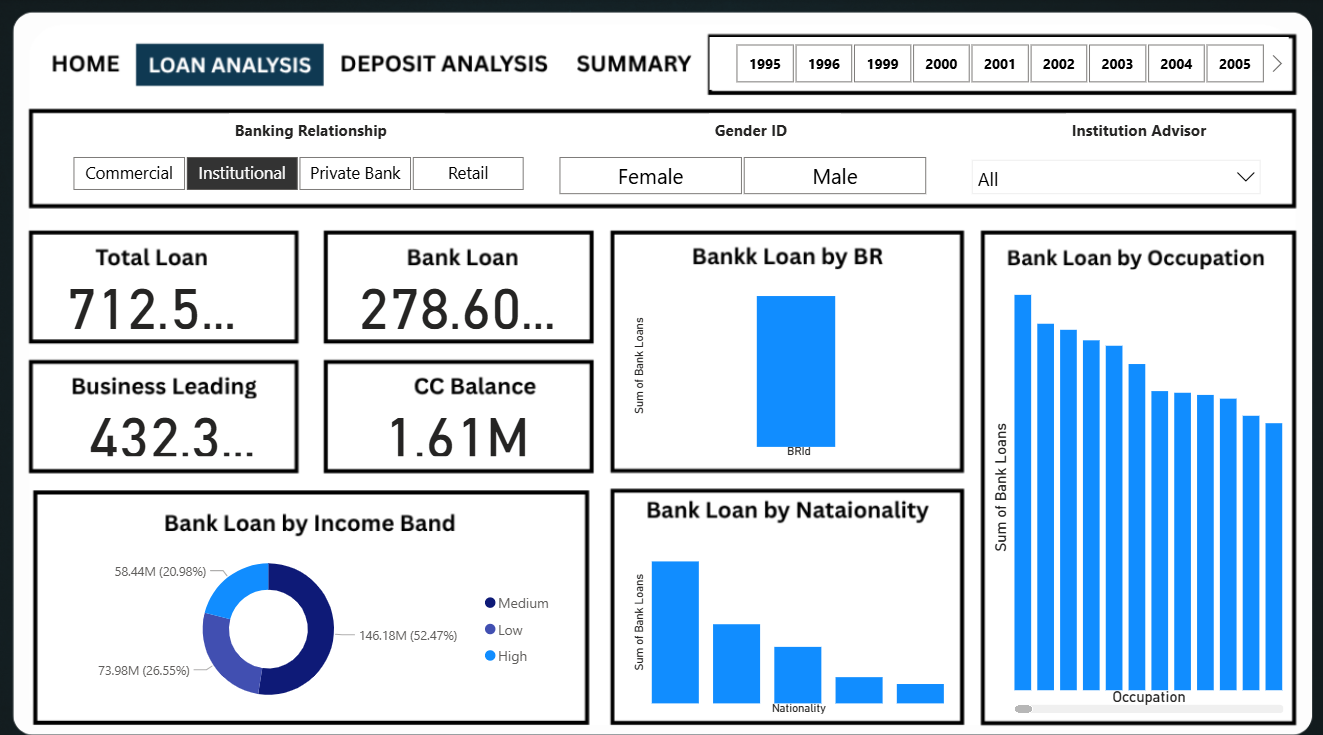

This screenshot's page, from the dashboard's own definition file:
{"tool":"powerbi","page":{"name":"Loan Analysis","canvas":[1280,720],"ordinal":2},"visuals":[{"type":"slicer","fields":{"Values":["Banking_Clients.Joined Bank.Variation.Date Hierarchy.Year"]},"box":[683.1,37.4,555.1,50.3],"z":0},{"type":"actionButton","box":[28.8,43.1,100.7,40.3],"z":1000},{"type":"actionButton","box":[323.6,43.1,208.5,40.3],"z":2000},{"type":"actionButton","box":[28.8,43.1,100.7,40.3],"z":3000},{"type":"actionButton","box":[539.3,43.1,132.3,40.3],"z":4000},{"type":"card","fields":{"Values":["Banking_Clients.Total loan"]},"box":[59.1,258.9,175.6,63.6],"z":5000},{"type":"card","fields":{"Values":["Sum(Banking_Clients.Bank Loans)"]},"box":[336.2,260.4,207.4,62.1],"z":6000},{"type":"card","fields":{"Values":["Sum(Banking_Clients.Credit Card Balance)"]},"box":[352.8,384.6,175.6,60.6],"z":7000},{"type":"card","fields":{"Values":["Sum(Banking_Clients.Business Lending)"]},"box":[78.7,384.6,175.6,60.6],"z":8000},{"type":"donutChart","fields":{"Category":["Banking_Clients.Income Band"],"Y":["Sum(Banking_Clients.Bank Loans)"]},"box":[46.9,519.4,496.7,171.1],"z":9000},{"type":"clusteredColumnChart","fields":{"Category":["Banking_Clients.BRId"],"Y":["Sum(Banking_Clients.Bank Loans)"]},"box":[605.7,260.4,308.9,184.7],"z":10000},{"type":"clusteredColumnChart","fields":{"Y":["Sum(Banking_Clients.Bank Loans)"],"Category":["Banking_Clients.Nationality"]},"box":[605.7,505.7,308.9,184.7],"z":11000},{"type":"clusteredColumnChart","fields":{"Y":["Sum(Banking_Clients.Bank Loans)"],"Category":["Banking_Clients.Occupation"]},"box":[949.4,260.4,289.2,430],"z":12000},{"type":"slicer","fields":{"Values":["Banking_Clients.BRId"]},"box":[46.9,145.4,481.5,45.4],"z":13000},{"type":"slicer","fields":{"Values":["Banking_Clients.GenderId"]},"box":[513.3,145.4,401.3,45.4],"z":14000},{"type":"slicer","fields":{"Values":["Banking_Clients.IAId"]},"box":[925.2,145.4,296.8,45.4],"z":15000},{"type":"textbox","box":[682.9,110.5,125.7,34.8],"z":16000},{"type":"textbox","box":[222.6,110.5,205.9,34.8],"z":17000},{"type":"textbox","box":[1025.1,110.5,146.9,34.8],"z":18000}]}

Visuals, with their boxes in screenshot pixels (x1, y1, x2, y2), scaled from the page's 1280x720 canvas onto the 1323x735 screenshot:
slicer - Banking_Clients.Joined Bank.Variation.Date Hierarchy.Year: detection(706, 38, 1280, 90)
actionButton: detection(30, 44, 134, 85)
actionButton: detection(334, 44, 550, 85)
actionButton: detection(30, 44, 134, 85)
actionButton: detection(557, 44, 694, 85)
card - Banking_Clients.Total loan: detection(61, 264, 243, 329)
card - Sum(Banking_Clients.Bank Loans): detection(347, 266, 562, 329)
card - Sum(Banking_Clients.Credit Card Balance): detection(365, 393, 546, 454)
card - Sum(Banking_Clients.Business Lending): detection(81, 393, 263, 454)
donutChart - Banking_Clients.Income Band x Sum(Banking_Clients.Bank Loans): detection(48, 530, 562, 705)
clusteredColumnChart - Banking_Clients.BRId x Sum(Banking_Clients.Bank Loans): detection(626, 266, 945, 454)
clusteredColumnChart - Sum(Banking_Clients.Bank Loans) x Banking_Clients.Nationality: detection(626, 516, 945, 705)
clusteredColumnChart - Sum(Banking_Clients.Bank Loans) x Banking_Clients.Occupation: detection(981, 266, 1280, 705)
slicer - Banking_Clients.BRId: detection(48, 148, 546, 195)
slicer - Banking_Clients.GenderId: detection(531, 148, 945, 195)
slicer - Banking_Clients.IAId: detection(956, 148, 1263, 195)
textbox: detection(706, 113, 836, 148)
textbox: detection(230, 113, 443, 148)
textbox: detection(1060, 113, 1211, 148)
